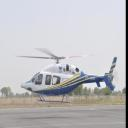helicopter: (17, 47, 119, 107)
